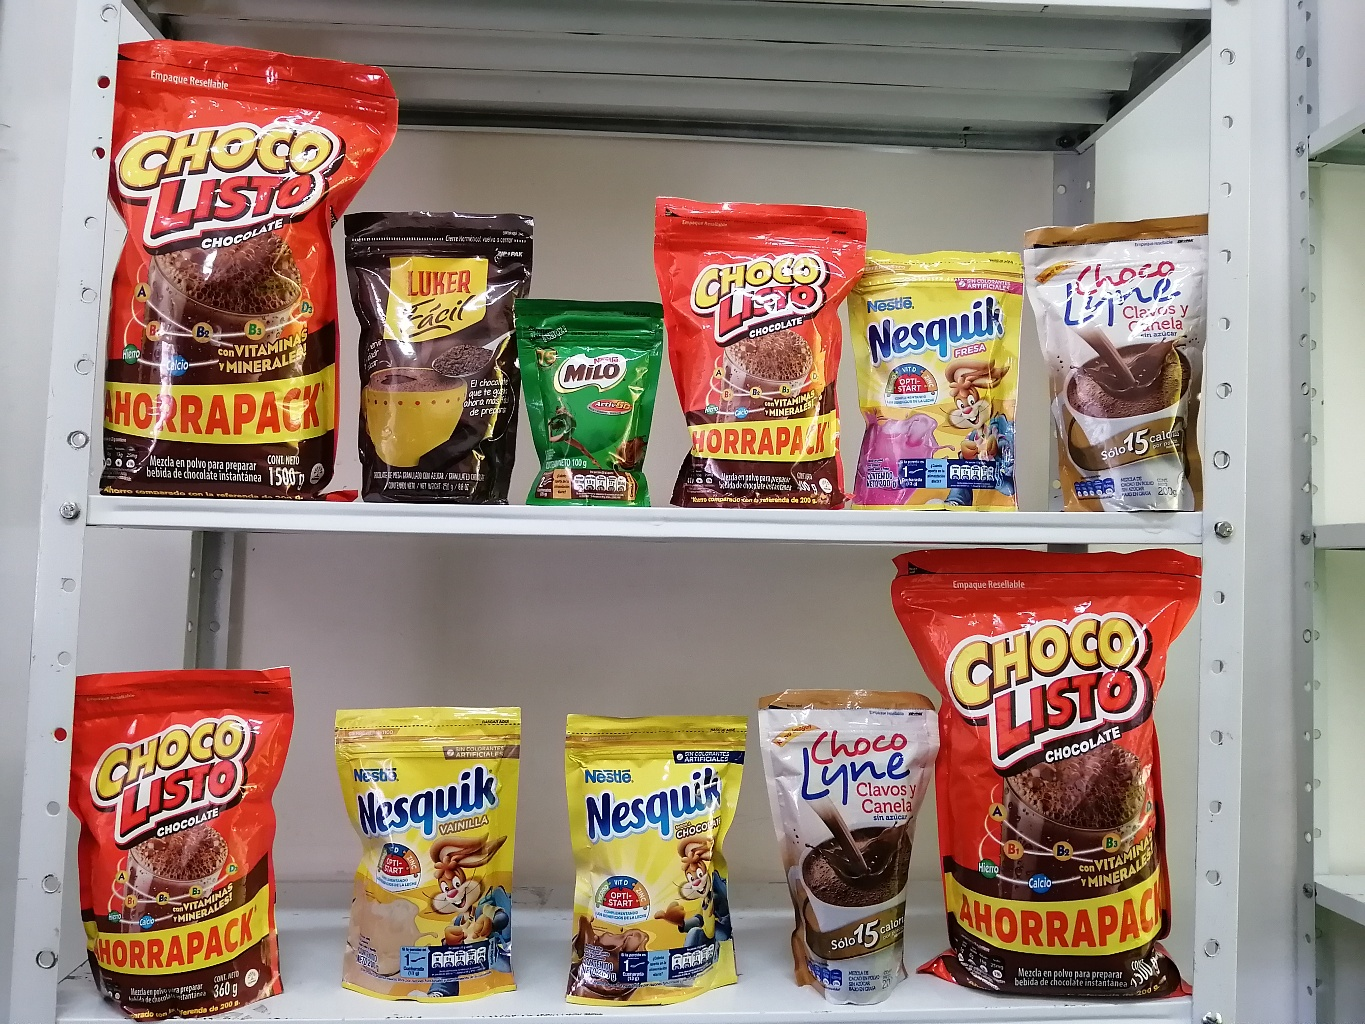COL0170103DYP1,500: (104, 38, 400, 500)
COL0170103DYP36000: (66, 655, 313, 1018)
COL0170103DYP40000: (651, 185, 855, 501)
COL0170203DYP10000: (516, 293, 666, 501)
COL0170303DYP20000: (548, 699, 766, 1010)
COL0170305DYP20000: (851, 233, 1026, 504)
COL0170306DYP20000: (313, 701, 546, 1013)
